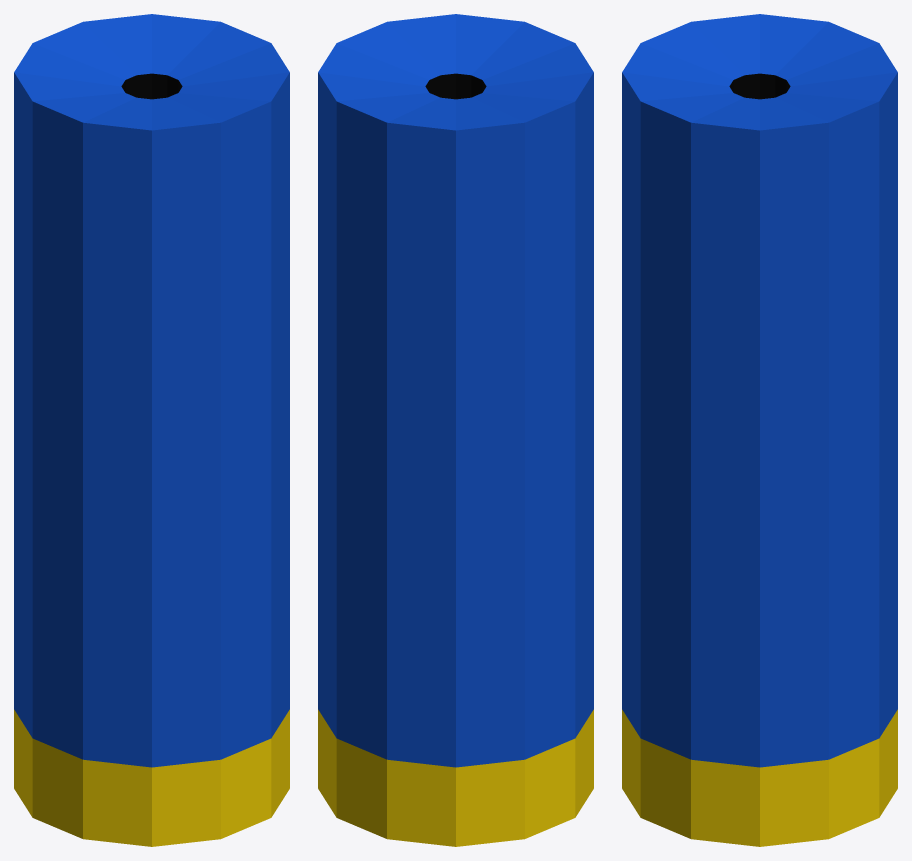
The model's file is Shotgun_Ammo_1.fbx.
3 renders of one model, left to right at view 1: azimuth 30°, elevation 25°; view 2: azimuth 150°, elevation 25°; view 3: azimuth 270°, elevation 25°, orthographic.
Parts seen in each view (by area): view 1: Ammo_SH; view 2: Ammo_SH; view 3: Ammo_SH.
Boxes of the visible parts, x1,y1,x2,y2 form: Ammo_SH: (14,14,289,846); Ammo_SH: (318,14,593,846); Ammo_SH: (622,14,897,846).
Bounding box in the file's own units: 27.54 × 78.96 × 27.54.
